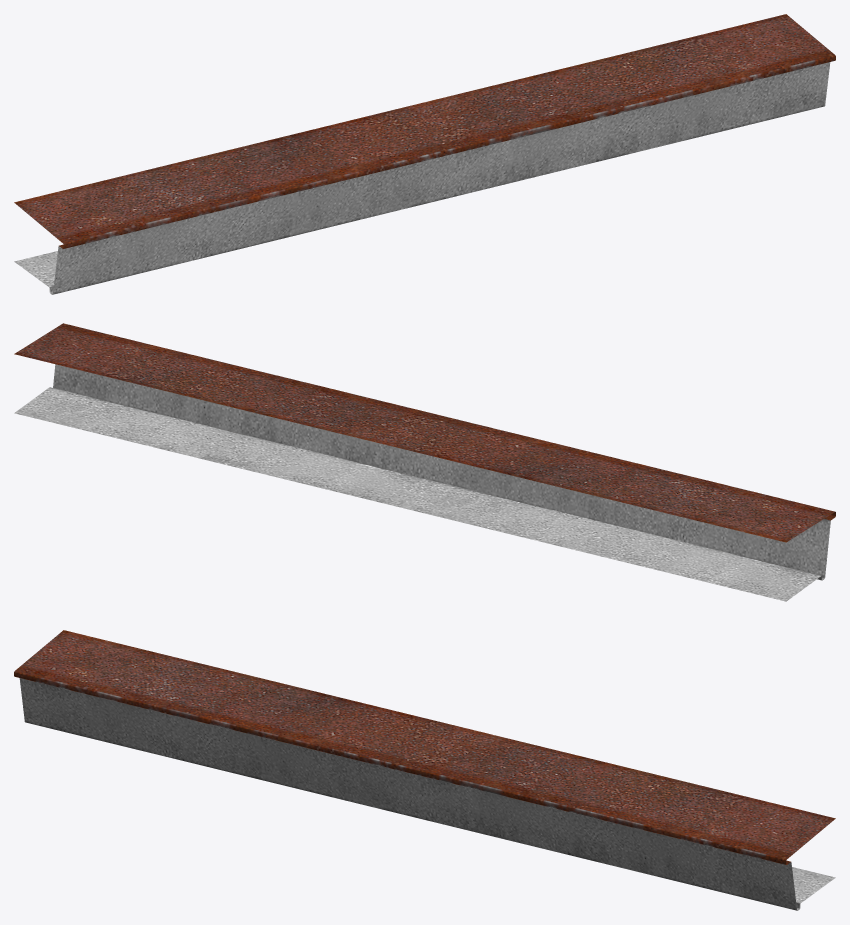
The model's file is Raincover_01_150.FBX.
3 renders of one model, top to bottom at view 1: azimuth 30°, elevation 25°; view 2: azimuth 150°, elevation 25°; view 3: azimuth 330°, elevation 25°, orthographic.
Parts seen in each view (by area): view 1: Raincover_01_150; view 2: Raincover_01_150; view 3: Raincover_01_150.
Part boxes in pixels (box(x1,y1,x2,y2)): Raincover_01_150: box(14, 14, 835, 294); Raincover_01_150: box(14, 323, 835, 601); Raincover_01_150: box(14, 630, 835, 910).
Bounding box in the file's own units: 150 × 11.97 × 16.71.
